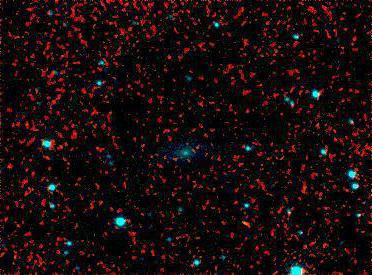star: (224, 209, 254, 239)
